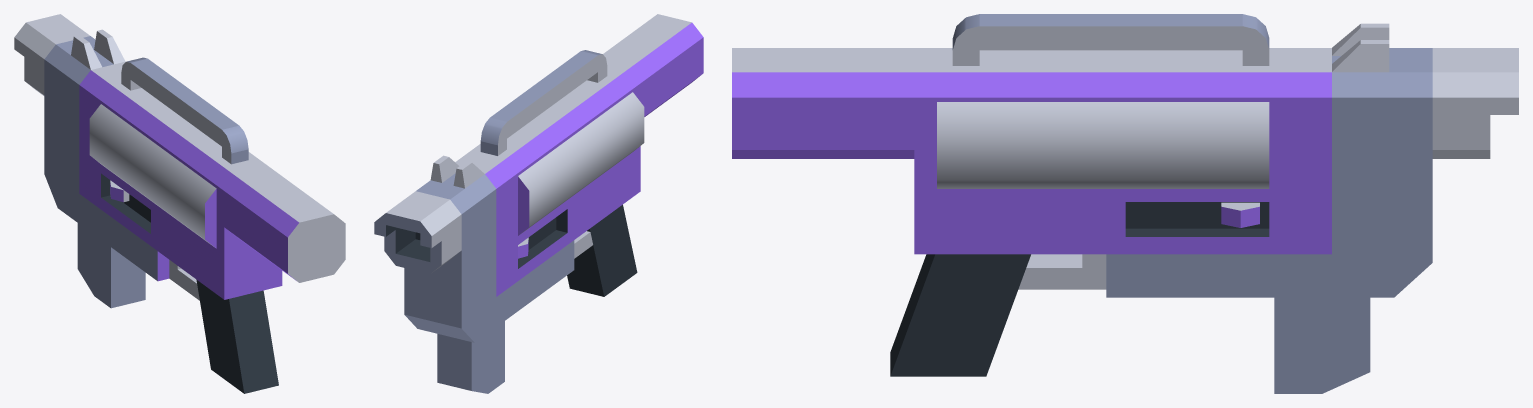
Rendered from blasterA.obj.
3 renders of one model, left to right at view 1: azimuth 30°, elevation 25°; view 2: azimuth 150°, elevation 25°; view 3: azimuth 270°, elevation 25°, orthographic. The views are drawn at different scales.
Parts seen in each view (by area): view 1: blasterA; view 2: blasterA; view 3: blasterA.
Boxes of the visible parts, x1,y1,x2,y2 form: blasterA: (14, 14, 345, 393); blasterA: (374, 14, 703, 393); blasterA: (732, 14, 1518, 393).
Size of the model in its own units: 0.14 by 0.4159 by 0.82.
